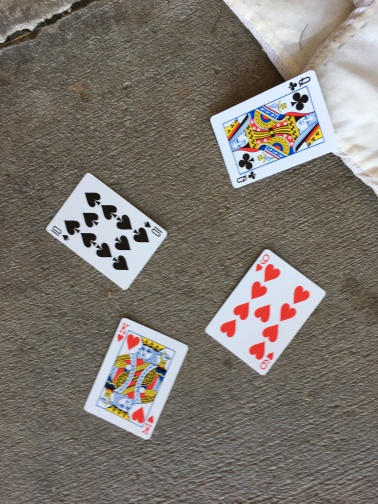king: (82, 316, 190, 441)
nine: (205, 249, 328, 379)
queen: (210, 68, 337, 190)
ten: (45, 172, 169, 291)
